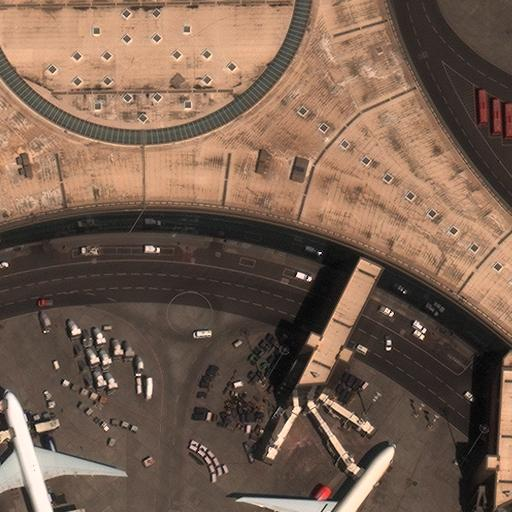Large Civil Transport: (0, 390, 123, 511), (241, 444, 393, 511)
